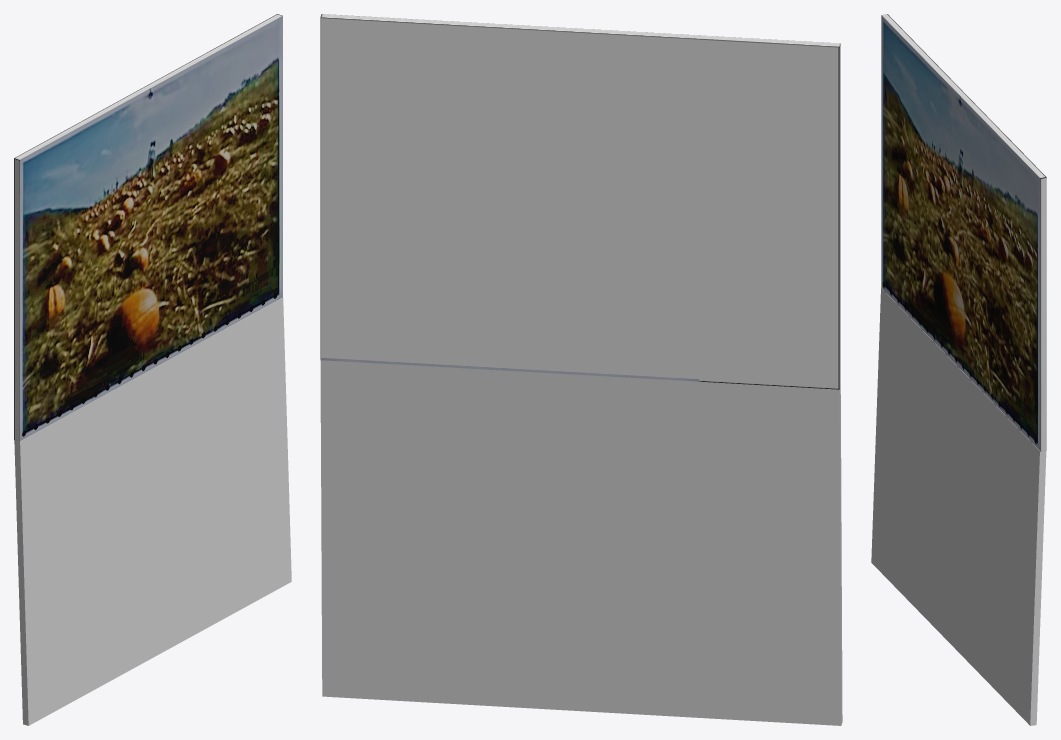
The model's file is calendar.fbx.
3 views of the same model, side by side, from view 1: azimuth 30°, elevation 25°; view 2: azimuth 150°, elevation 25°; view 3: azimuth 270°, elevation 25° (orthographic). The views are drawn at different scales.
Parts seen in each view (by area): view 1: Cube001_Cube.000; view 2: Cube001_Cube.000; view 3: Cube001_Cube.000.
Boxes of the visible parts, x1,y1,x2,y2 form: Cube001_Cube.000: (14, 14, 291, 725); Cube001_Cube.000: (320, 14, 842, 725); Cube001_Cube.000: (871, 14, 1046, 725).
Bounding box in the file's own units: 36.34 × 55.7 × 16.21.
Materials: 2 (1 with a texture image).
